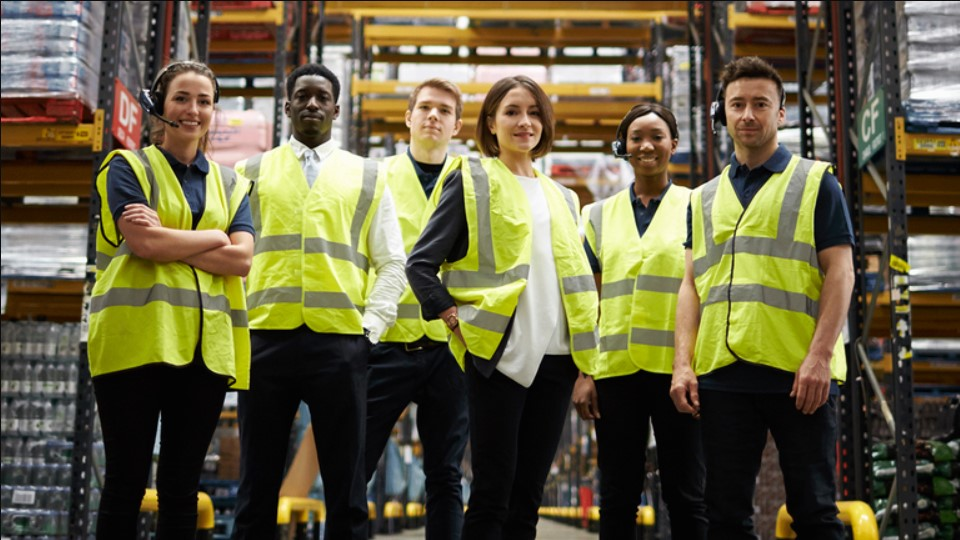worker: (88, 63, 249, 391), (693, 64, 848, 380), (438, 75, 598, 372), (242, 65, 382, 336)
